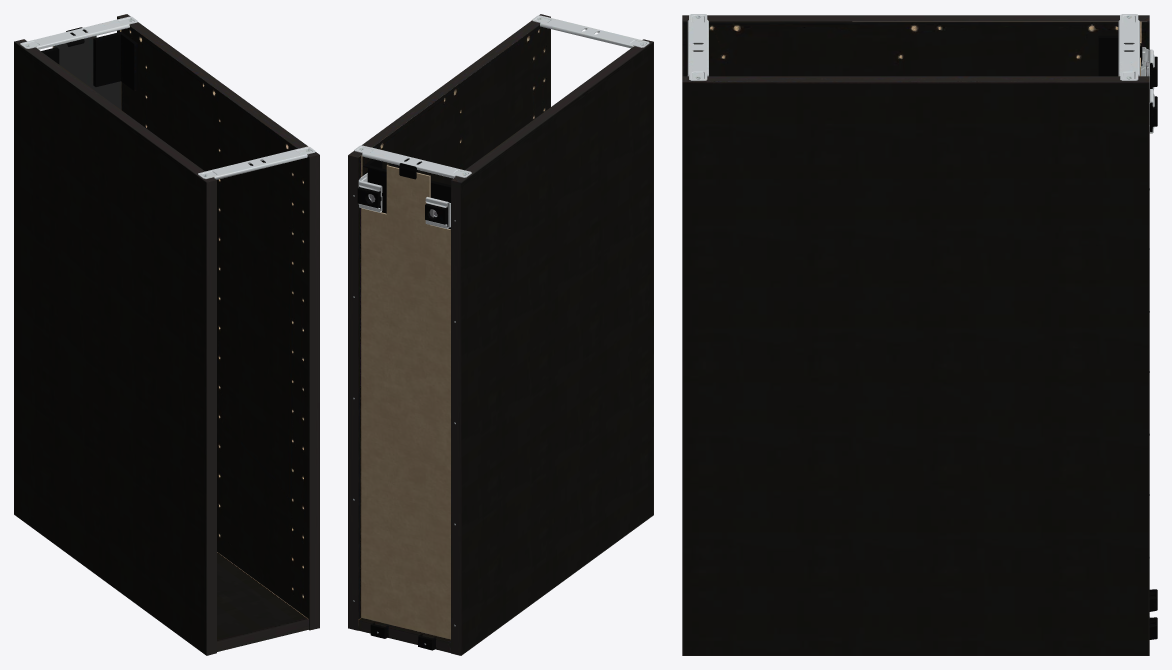
The model's file is metod_szafka_stojaca_00591696.glb.
3 views of the same model, side by side, from view 1: azimuth 30°, elevation 25°; view 2: azimuth 150°, elevation 25°; view 3: azimuth 270°, elevation 25° (orthographic). The views are drawn at different scales.
Visible parts, largest first — view 1: metod_szafka_stojaca_00591696; view 2: metod_szafka_stojaca_00591696; view 3: metod_szafka_stojaca_00591696.
Part boxes in pixels (bbox=[...]): metod_szafka_stojaca_00591696: bbox=[14, 14, 319, 655]; metod_szafka_stojaca_00591696: bbox=[348, 14, 653, 655]; metod_szafka_stojaca_00591696: bbox=[682, 14, 1157, 655].
Size of the model in its own units: 0.2 by 0.802 by 0.6001.
Materials: 1 (1 with a texture image).
